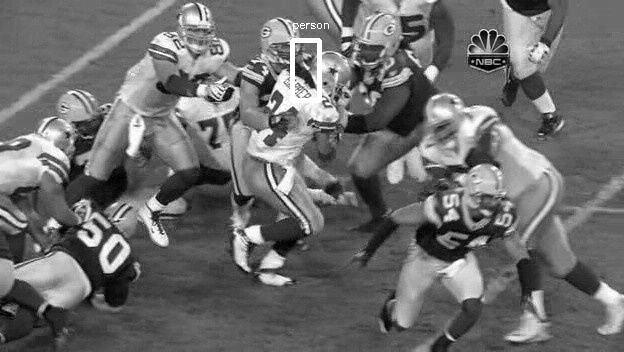person: (317, 54, 352, 99), (316, 54, 351, 99), (318, 54, 353, 99), (317, 53, 352, 98), (317, 55, 352, 100)
target_negative: (127, 132, 354, 233), (182, 29, 198, 180), (564, 154, 580, 285), (579, 209, 621, 258), (37, 51, 48, 201), (306, 82, 309, 251)
